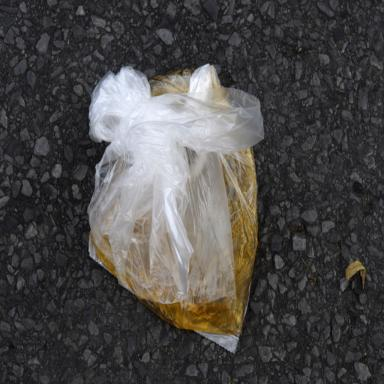plasticbag: (88, 62, 265, 355)
